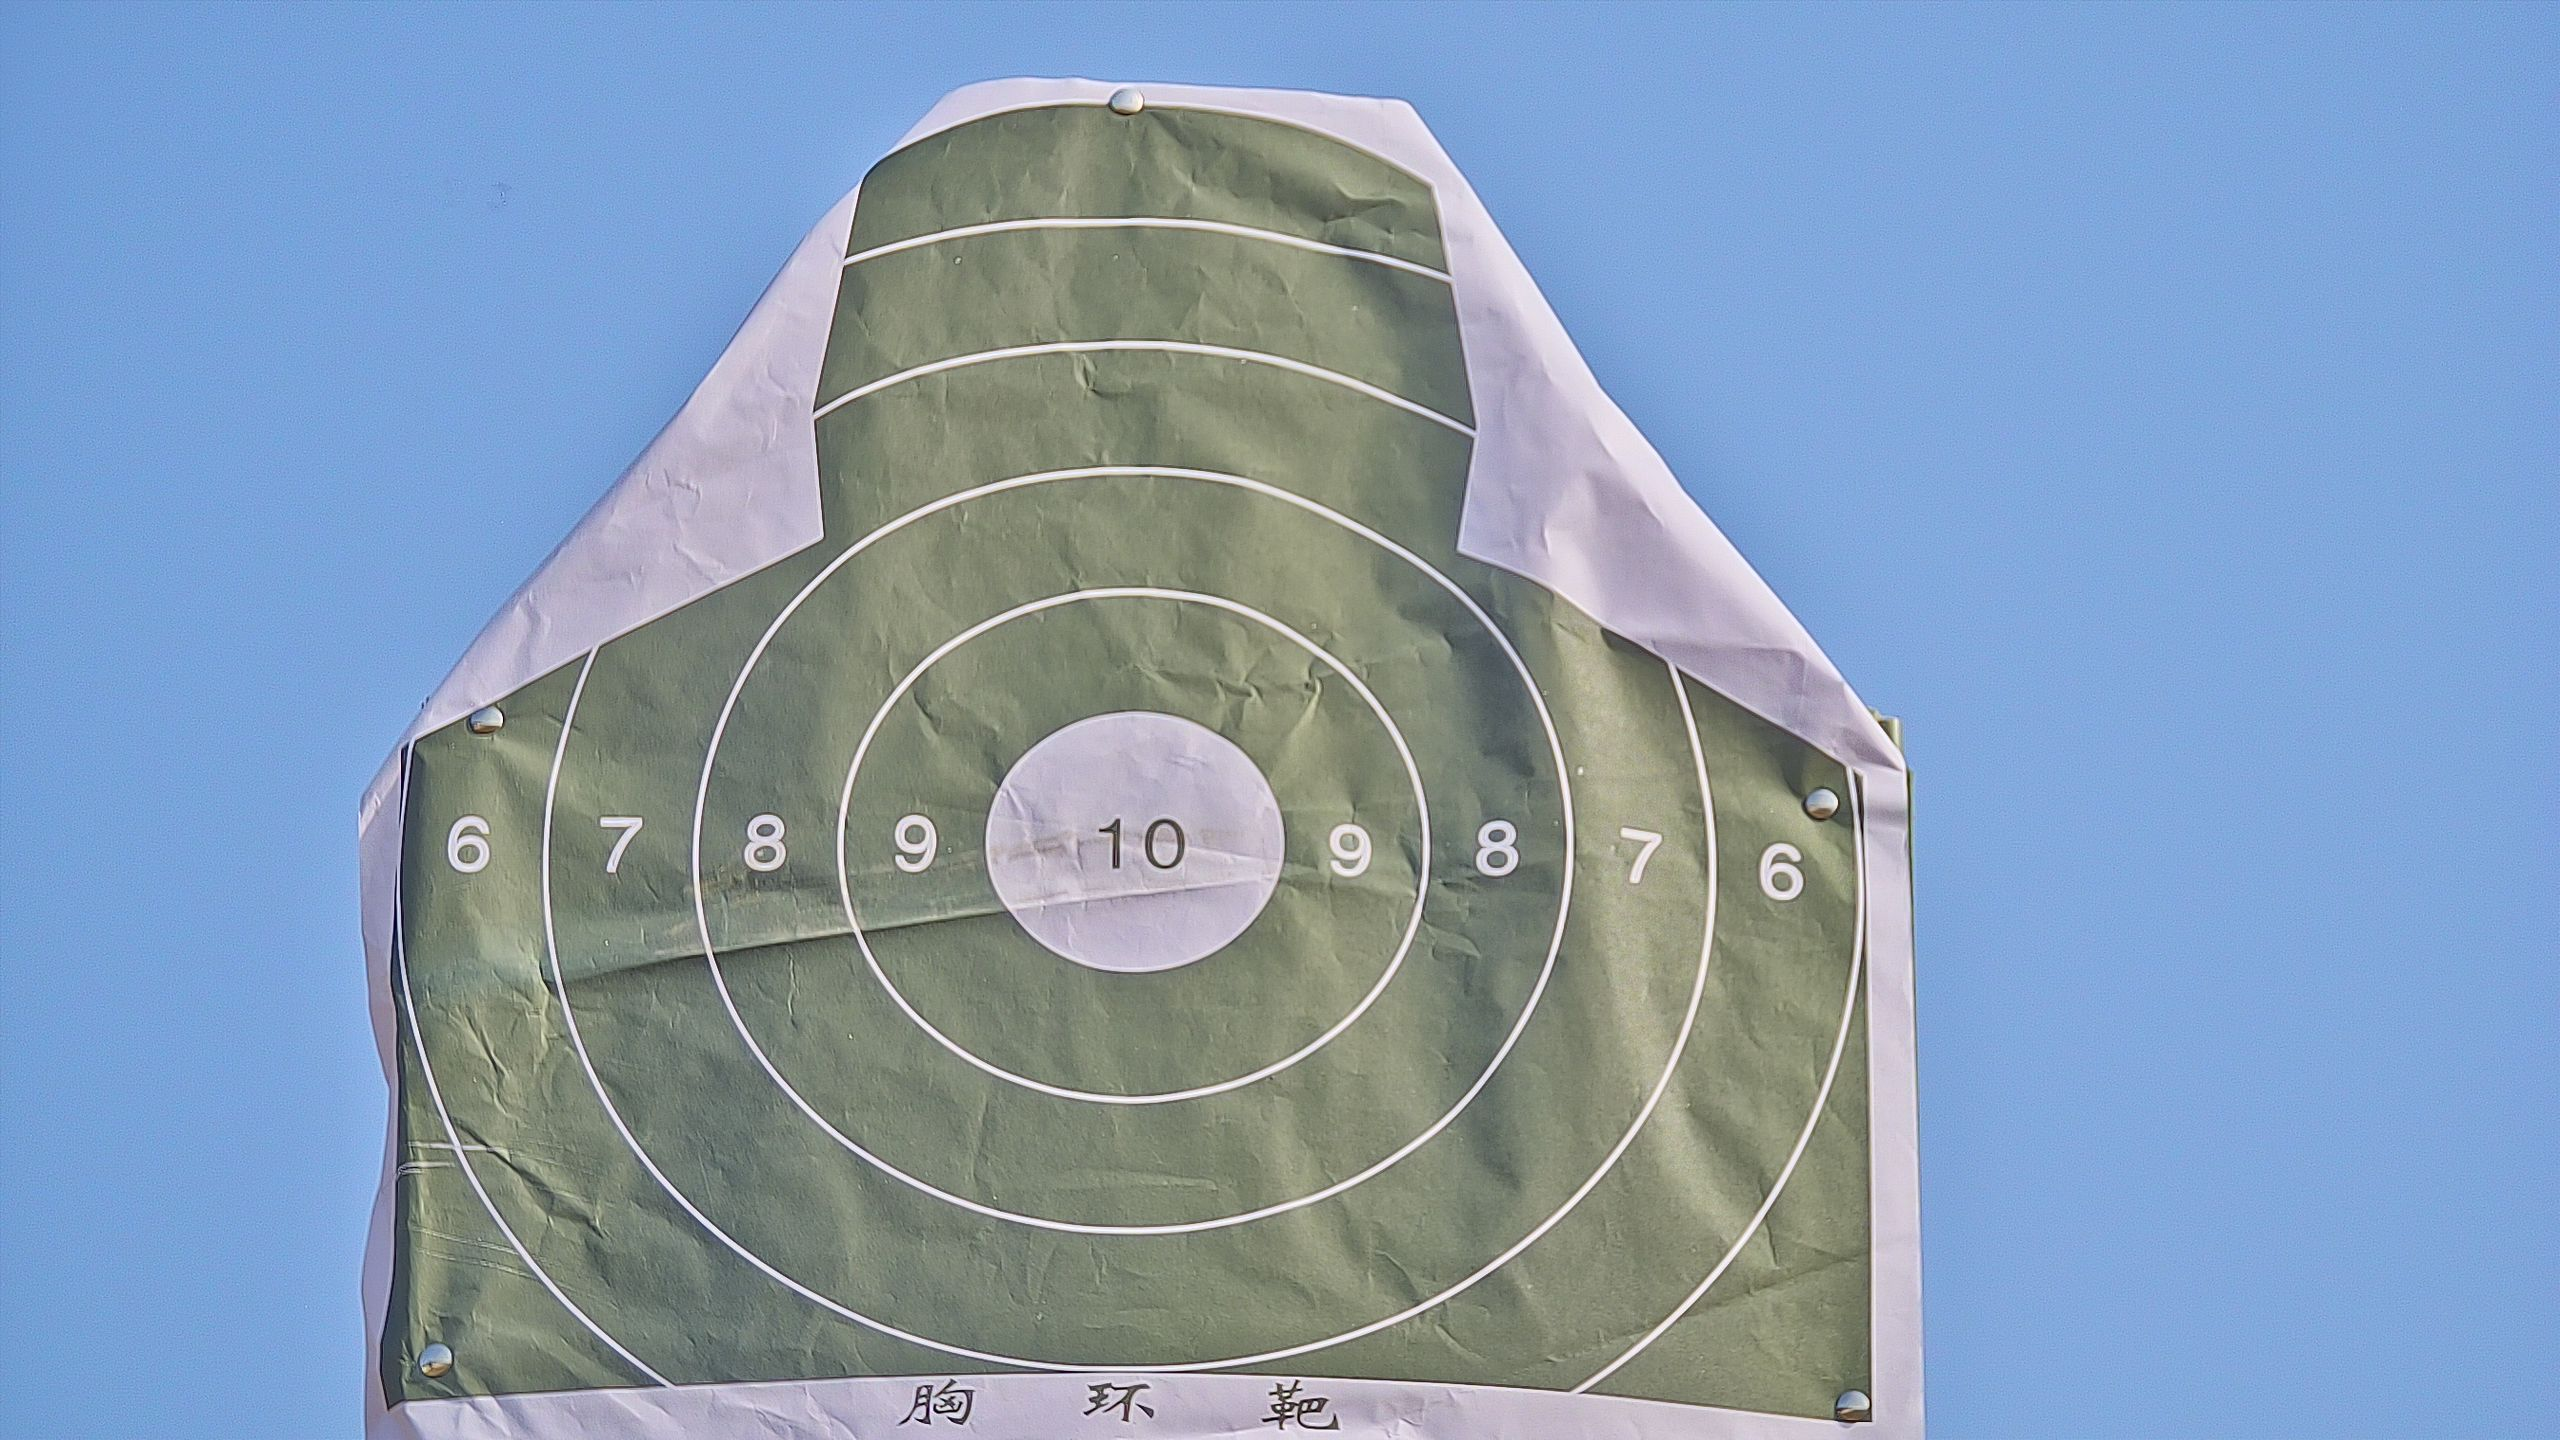kernel: (1132, 840, 1134, 849)
target: (389, 105, 1873, 1419)
ten: (983, 710, 1289, 979)
